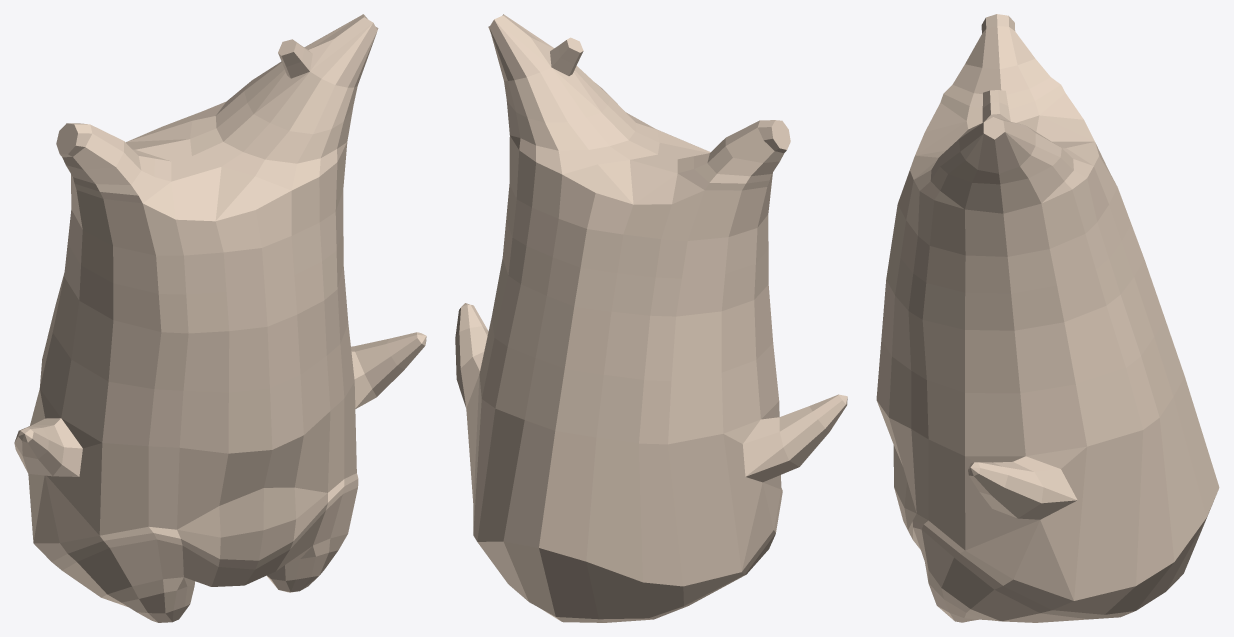
Rendered from frame_0104.obj.
3 renders of one model, left to right at view 1: azimuth 30°, elevation 25°; view 2: azimuth 150°, elevation 25°; view 3: azimuth 270°, elevation 25°, orthographic. The views are drawn at different scales.
Visible parts, largest first — view 1: korok; view 2: korok; view 3: korok.
Boxes of the visible parts, x1,y1,x2,y2 form: korok: (14, 14, 426, 622); korok: (455, 14, 847, 622); korok: (876, 14, 1219, 622).
Size of the model in its own units: 1.47 by 1.89 by 1.06.
